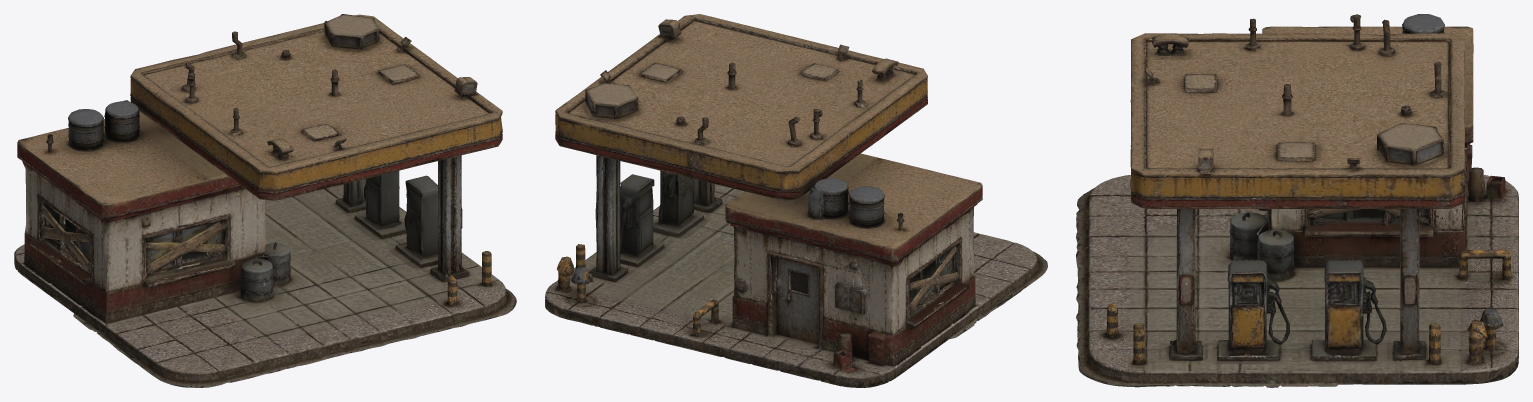
Rendered from tripo_convert_dd5a23f4-29db-44de-87a4-3e1ffca2d806.fbx.
3 views of the same model, side by side, from view 1: azimuth 30°, elevation 25°; view 2: azimuth 150°, elevation 25°; view 3: azimuth 270°, elevation 25° (orthographic). The views are drawn at different scales.
Visible parts, largest first — view 1: tripo_node_dd5a23f4; view 2: tripo_node_dd5a23f4; view 3: tripo_node_dd5a23f4.
Part boxes in pixels (x1,y1,x2,y2): tripo_node_dd5a23f4: (14,14,516,387); tripo_node_dd5a23f4: (545,14,1047,387); tripo_node_dd5a23f4: (1076,14,1518,387).
Size of the model in its own units: 0.9819 by 0.5402 by 0.8938.
Materials: 1 (1 with a texture image).
